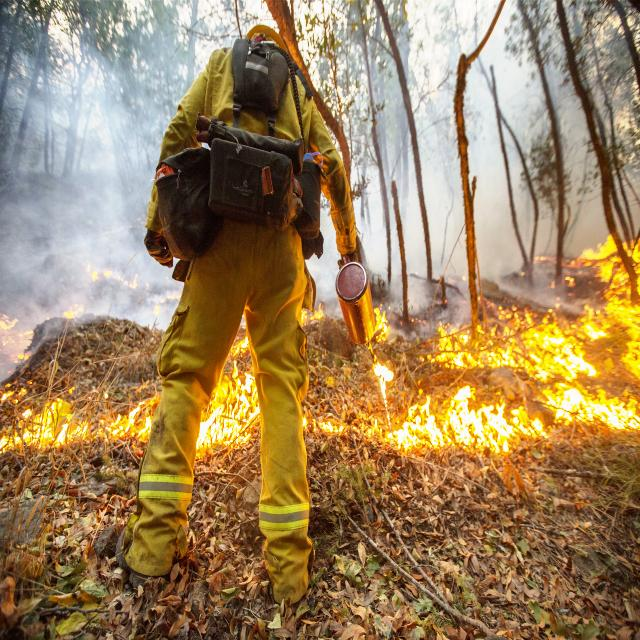api: (399, 383, 640, 460), (441, 331, 638, 381), (1, 416, 153, 452), (592, 240, 640, 324), (206, 386, 252, 467)
asap: (1, 40, 159, 350), (503, 241, 583, 324), (388, 254, 474, 326)
